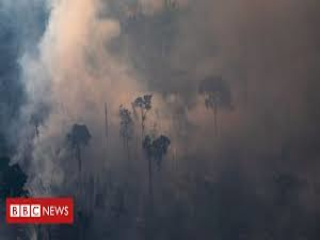smoke: (14, 5, 148, 192)
